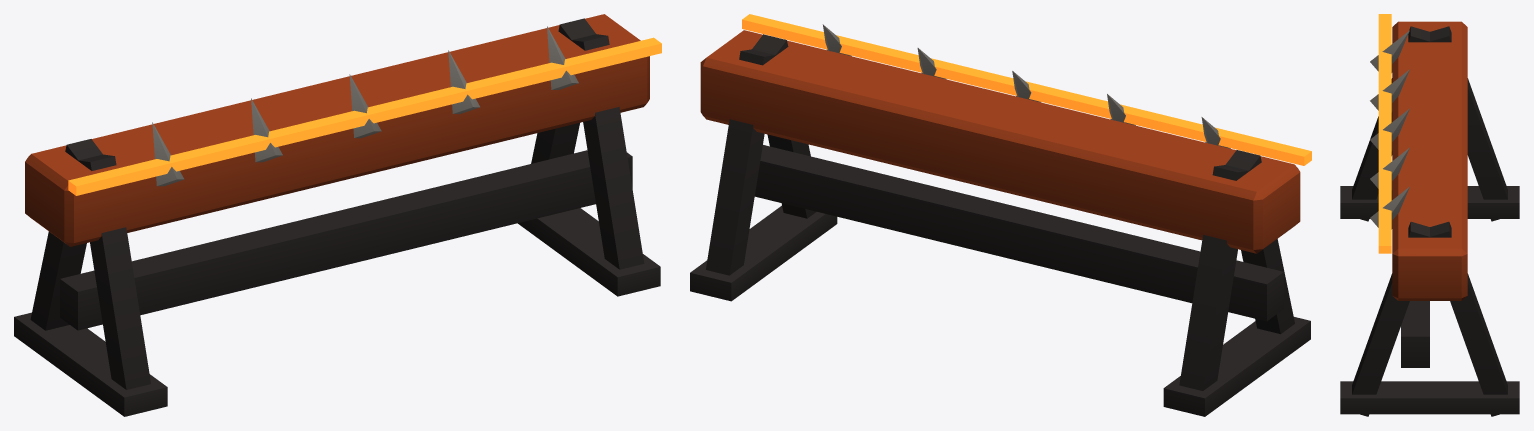
File: low_barrier.glb
3 views of the same model, side by side, from view 1: azimuth 30°, elevation 25°; view 2: azimuth 150°, elevation 25°; view 3: azimuth 270°, elevation 25° (orthographic). The views are drawn at different scales.
Parts seen in each view (by area): view 1: low_barrier_mesh; view 2: low_barrier_mesh; view 3: low_barrier_mesh.
Part boxes in pixels (bbox=[...]): low_barrier_mesh: bbox=[14, 14, 661, 416]; low_barrier_mesh: bbox=[690, 14, 1311, 416]; low_barrier_mesh: bbox=[1340, 14, 1519, 416].
Bounding box in the file's own units: 1.9 × 0.7885 × 0.62.
